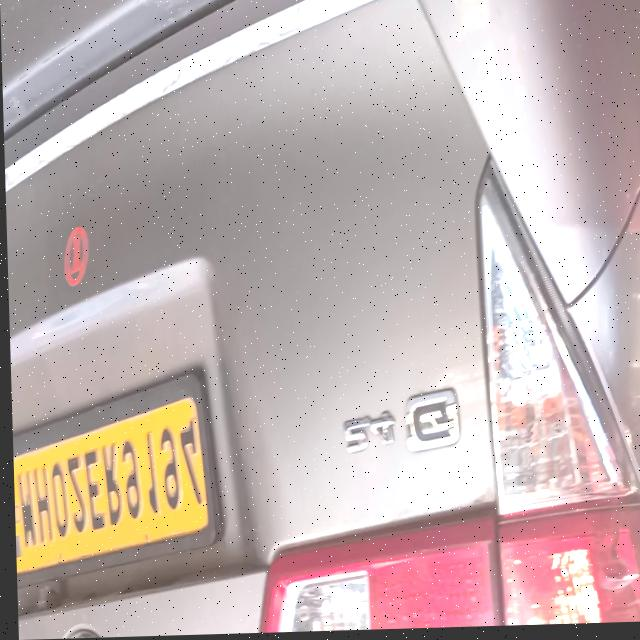plate: (9, 366, 223, 597)
